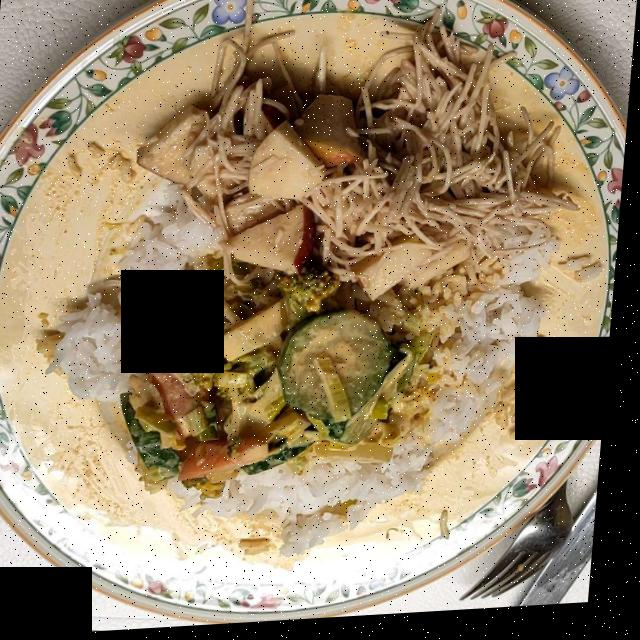apple: (136, 105, 360, 270)
celeriac: (201, 25, 588, 263)
curry-vegetarian: (140, 269, 436, 492)
rice: (60, 191, 560, 558)
